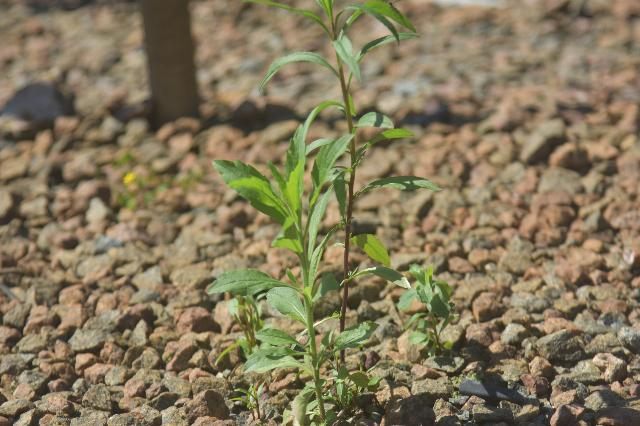MalezaMontesDelPlata: (245, 0, 401, 426), (209, 123, 340, 426), (388, 254, 470, 372)
